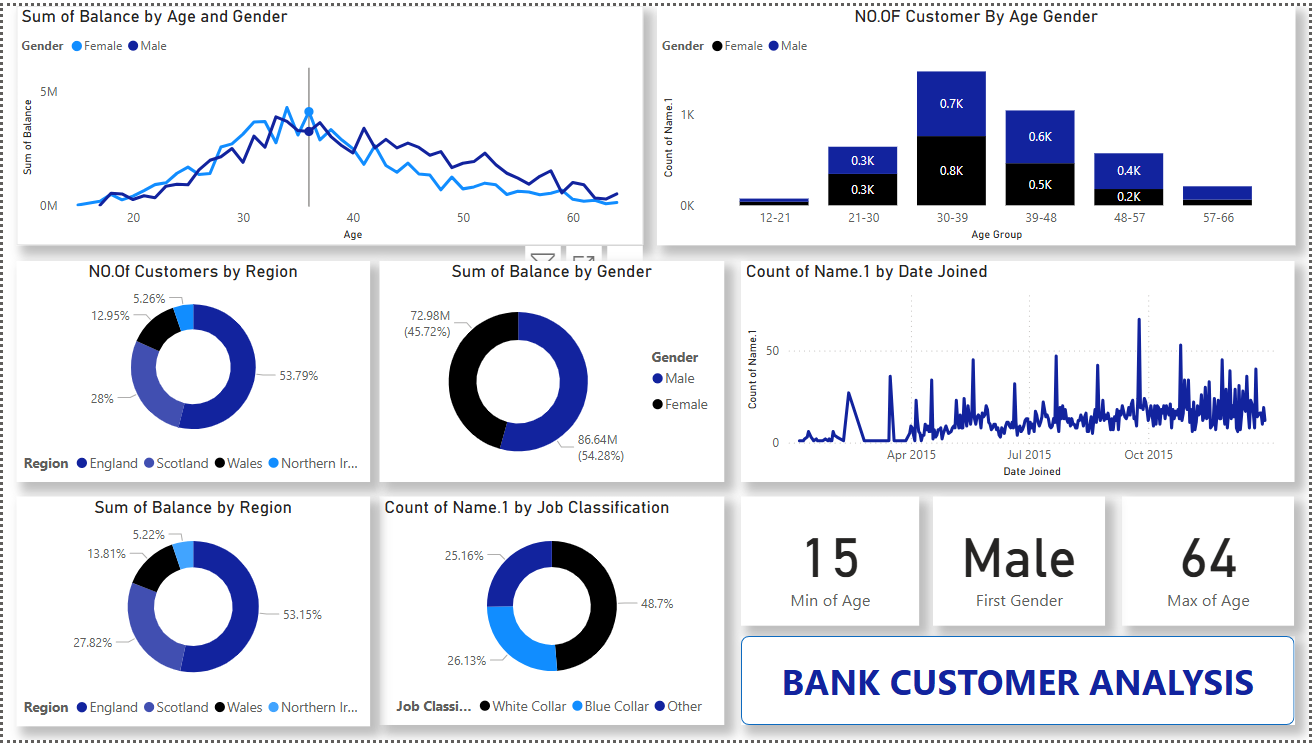

Layout of this report page (visuals, bound fields, positions):
{"tool":"powerbi","page":{"name":"Bank Customer Analysis","canvas":[1280,720],"ordinal":0},"visuals":[{"type":"lineChart","fields":{"Y":["Sum(Customer Data Analysis.Balance)"],"Category":["Customer Data Analysis.Age"],"Series":["Customer Data Analysis.Gender"]},"box":[13.1,0,614.2,234.3],"z":0},{"type":"columnChart","title":"NO.OF Customer By Age Gender","fields":{"Category":["Customer Data Analysis.Age Group"],"Y":["CountNonNull(Customer Data Analysis.Name.1)"],"Series":["Customer Data Analysis.Gender"]},"box":[640.4,0,625.9,234.3],"z":1000},{"type":"donutChart","title":"NO.Of Customers by Region","fields":{"Y":["CountNonNull(Customer Data Analysis.Name.1)"],"Category":["Customer Data Analysis.Region"]},"box":[13.1,250.4,346.4,216.9],"z":2000},{"type":"donutChart","fields":{"Category":["Customer Data Analysis.Gender"],"Y":["Sum(Customer Data Analysis.Balance)"]},"box":[369.7,250.4,337.7,216.9],"z":3000},{"type":"donutChart","fields":{"Category":["Customer Data Analysis.Job Classification"],"Y":["CountNonNull(Customer Data Analysis.Name.1)"]},"box":[369.7,480.3,337.7,224.2],"z":4000},{"type":"donutChart","fields":{"Category":["Customer Data Analysis.Region"],"Y":["Sum(Customer Data Analysis.Balance)"]},"box":[13.1,480.3,346.4,225.6],"z":5000},{"type":"lineChart","fields":{"Y":["CountNonNull(Customer Data Analysis.Name.1)"],"Category":["Customer Data Analysis.Date Joined"]},"box":[723.4,250.4,542.9,216.9],"z":6000},{"type":"card","fields":{"Values":["Max(Customer Data Analysis.Age)"]},"box":[1097.5,480.3,168.8,126.6],"z":7000},{"type":"card","fields":{"Values":["Min(Customer Data Analysis.Age)"]},"box":[723.4,480.3,174.7,126.6],"z":8000},{"type":"card","fields":{"Values":["Min(Customer Data Analysis.Gender)"]},"box":[911.2,480.3,168.8,126.6],"z":9000},{"type":"shape","title":"CUSTOMER BANK ANALYSIS","box":[723.4,617.2,542.9,87.3],"z":9001}]}

Visuals, with their boxes in screenshot pixels (x1, y1, x2, y2), scaled from the page's 1280x720 canvas onto the 1313x743 screenshot:
lineChart - Sum(Customer Data Analysis.Balance) x Customer Data Analysis.Age: bbox=[13, 0, 643, 242]
"NO.OF Customer By Age Gender" columnChart: bbox=[657, 0, 1299, 242]
"NO.Of Customers by Region" donutChart: bbox=[13, 258, 369, 482]
donutChart - Customer Data Analysis.Gender x Sum(Customer Data Analysis.Balance): bbox=[379, 258, 726, 482]
donutChart - Customer Data Analysis.Job Classification x CountNonNull(Customer Data Analysis.Name.1): bbox=[379, 496, 726, 727]
donutChart - Customer Data Analysis.Region x Sum(Customer Data Analysis.Balance): bbox=[13, 496, 369, 728]
lineChart - CountNonNull(Customer Data Analysis.Name.1) x Customer Data Analysis.Date Joined: bbox=[742, 258, 1299, 482]
card - Max(Customer Data Analysis.Age): bbox=[1126, 496, 1299, 626]
card - Min(Customer Data Analysis.Age): bbox=[742, 496, 921, 626]
card - Min(Customer Data Analysis.Gender): bbox=[935, 496, 1108, 626]
"CUSTOMER BANK ANALYSIS" shape: bbox=[742, 637, 1299, 727]
